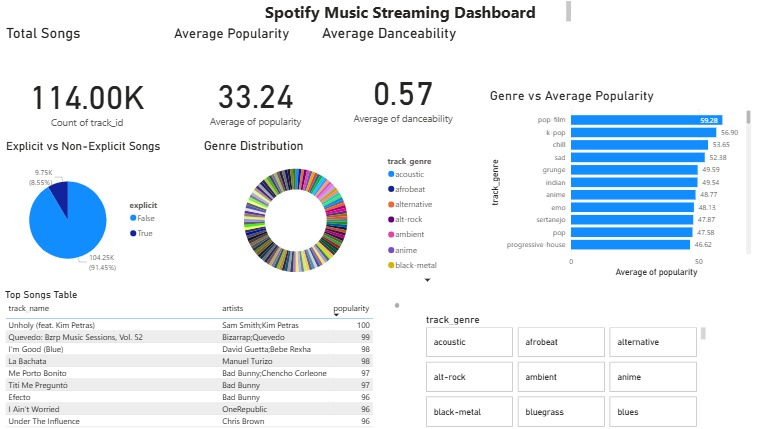

The dashboard page shown, as its layout file describes it:
{"tool":"powerbi","page":{"name":"Page 1","canvas":[1280,720],"ordinal":0},"visuals":[{"type":"card","title":"Total Songs","fields":{"Values":["CountNonNull(dataset.track_id)"]},"box":[10,45,280,221.7],"z":0},{"type":"card","title":"Average Popularity","fields":{"Values":["Avg(dataset.popularity)"]},"box":[290,45,281.7,218.3],"z":1000},{"type":"card","title":"Average Danceability","fields":{"Values":["Avg(dataset.danceability)"]},"box":[536.7,45,280,208.3],"z":2000},{"type":"clusteredBarChart","title":"Genre vs Average Popularity","fields":{"Category":["dataset.track_genre"],"Y":["Avg(dataset.popularity)"]},"box":[816.7,150,445,320],"z":3000},{"type":"pieChart","title":"Explicit vs Non-Explicit Songs","fields":{"Category":["dataset.explicit"],"Y":["CountNonNull(dataset.track_id)"]},"box":[10,235,280,248.3],"z":4000},{"type":"donutChart","title":"Genre Distribution","fields":{"Category":["dataset.track_genre"],"Y":["CountNonNull(dataset.track_id)"]},"box":[340,235,446.7,248.3],"z":5000},{"type":"tableEx","title":"Top Songs Table","fields":{"Values":["dataset.track_name","dataset.artists","dataset.popularity"]},"box":[8.3,483.3,668.3,236.7],"z":6000},{"type":"advancedSlicerVisual","fields":{"Values":["dataset.track_genre"]},"box":[710,525,476.7,195],"z":7000},{"type":"textbox","box":[441.7,0,520,45],"z":7001}]}

Visuals, with their boxes in screenshot pixels (x1, y1, x2, y2), scaled from the page's 1280x720 canvas onto the 765x429 screenshot:
"Total Songs" card: select_region(6, 27, 173, 159)
"Average Popularity" card: select_region(173, 27, 342, 157)
"Average Danceability" card: select_region(321, 27, 488, 151)
"Genre vs Average Popularity" clusteredBarChart: select_region(488, 89, 754, 280)
"Explicit vs Non-Explicit Songs" pieChart: select_region(6, 140, 173, 288)
"Genre Distribution" donutChart: select_region(203, 140, 470, 288)
"Top Songs Table" tableEx: select_region(5, 288, 404, 428)
advancedSlicerVisual - dataset.track_genre: select_region(424, 313, 709, 428)
textbox: select_region(264, 0, 575, 27)
